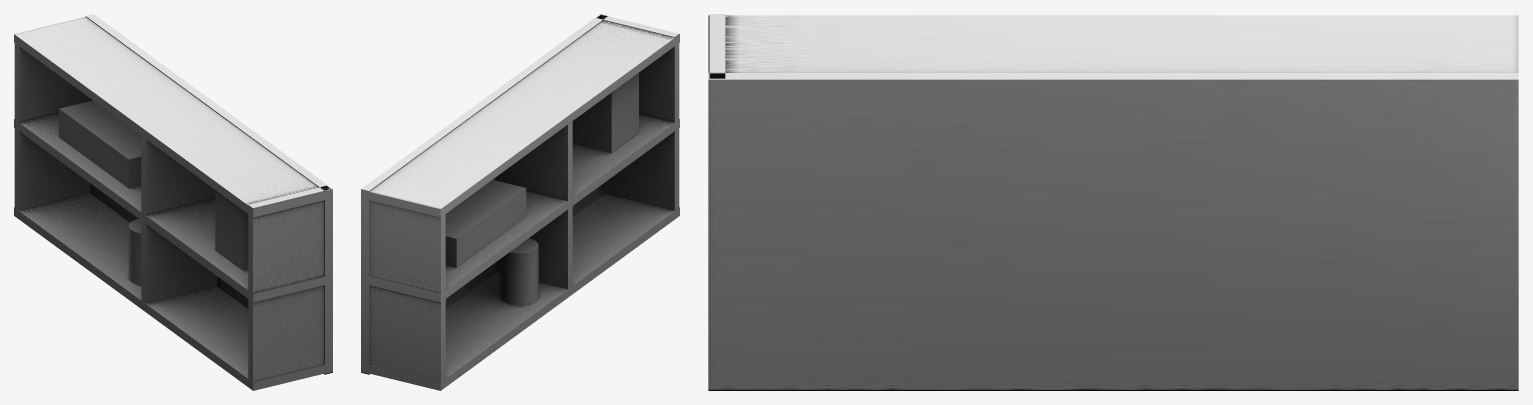
Rendered from Shelf2.fbx.
The picture shows the model from 3 angles, left to right: view 1: azimuth 30°, elevation 25°; view 2: azimuth 150°, elevation 25°; view 3: azimuth 270°, elevation 25°; orthographic projection. The views are drawn at different scales.
Parts seen in each view (by area): view 1: pCube3, pCube4, pCube8, pCube5, pCube9, pCube6, pCube7, pCube11, pCube10, pCylinder1; view 2: pCube3, pCube4, pCube6, pCube5, pCube8, pCube9, pCube7, pCube11, pCube10, pCylinder1; view 3: pCube7, pCube3, pCube8.
Boxes of the visible parts, <box> form: pCube3: <box>14,16,331,217</box>; pCube4: <box>14,193,331,390</box>; pCube8: <box>248,185,330,381</box>; pCube5: <box>14,113,331,302</box>; pCube9: <box>141,128,217,303</box>; pCube6: <box>14,36,90,210</box>; pCube7: <box>85,14,332,374</box>; pCube11: <box>59,100,141,188</box>; pCube10: <box>215,190,248,270</box>; pCylinder1: <box>128,219,141,285</box>; pCube3: <box>362,20,679,217</box>; pCube4: <box>362,193,679,390</box>; pCube6: <box>369,200,445,381</box>; pCube5: <box>362,114,679,302</box>; pCube8: <box>597,14,679,210</box>; pCube9: <box>496,121,572,288</box>; pCube7: <box>361,14,607,374</box>; pCube11: <box>445,179,526,267</box>; pCube10: <box>572,73,638,152</box>; pCylinder1: <box>500,238,538,305</box>; pCube7: <box>708,73,1518,390</box>; pCube3: <box>708,15,1518,72</box>; pCube8: <box>709,14,725,78</box>.
Bounding box in the file's own units: 50.32 × 111 × 262.
10 materials, 10 textured.
